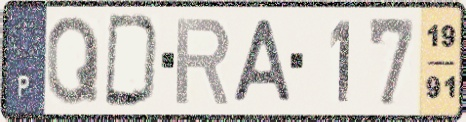1: (329, 19, 351, 104)
7: (366, 14, 416, 108)
A: (229, 17, 295, 106)
D: (102, 11, 163, 110)
Q: (45, 13, 102, 108)
R: (173, 15, 234, 107)
